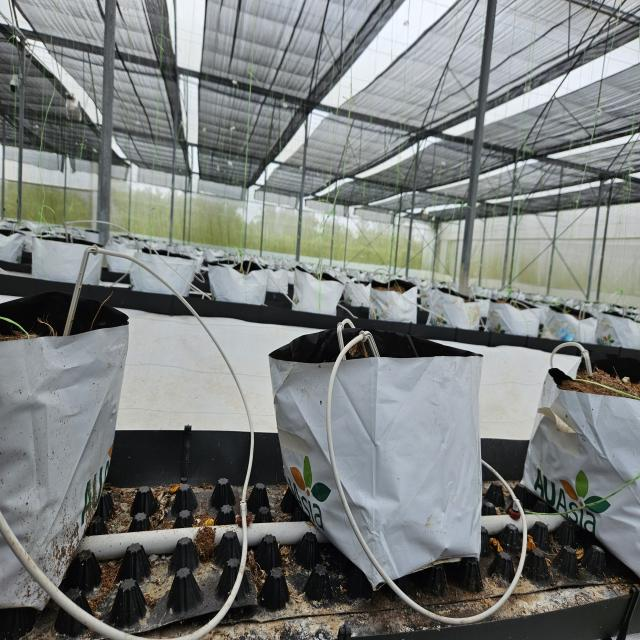Obstacle: (325, 329, 526, 628)
Soilbag: (267, 320, 485, 588), (0, 314, 130, 635), (525, 366, 640, 582)
